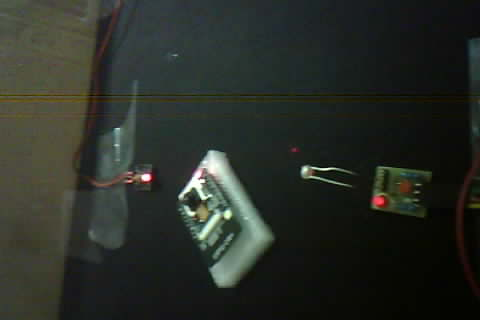esp32: (164, 155, 258, 272)
